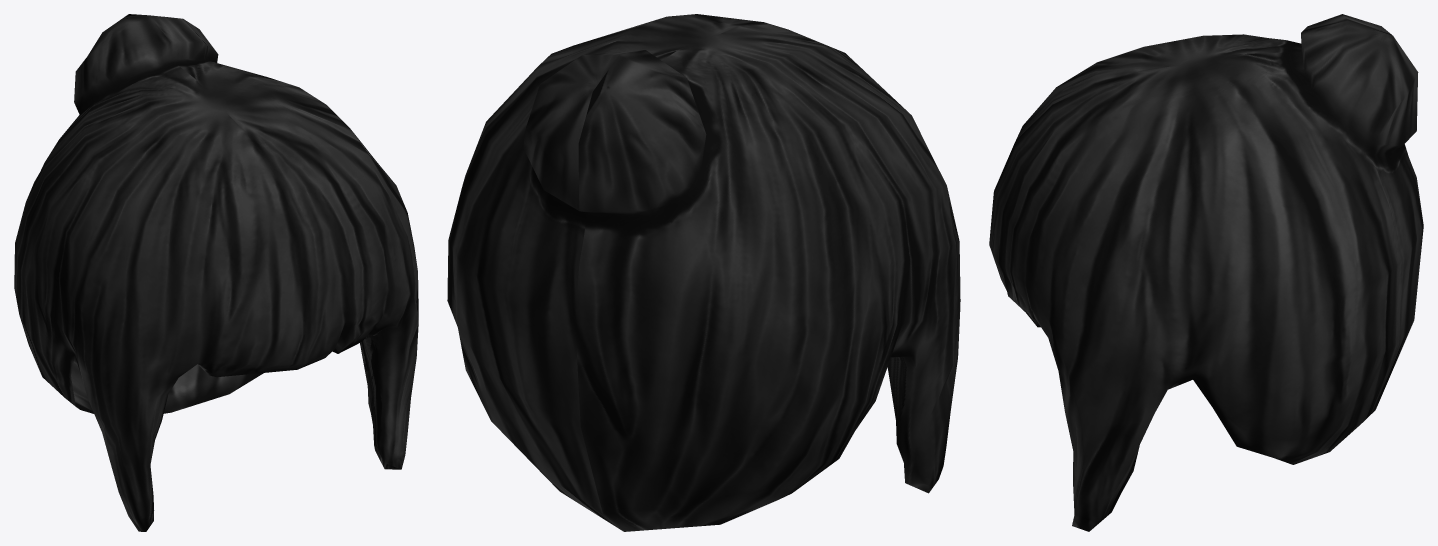
File: AF_M_hair_G_01.fbx
The picture shows the model from 3 angles, left to right: view 1: azimuth 30°, elevation 25°; view 2: azimuth 150°, elevation 25°; view 3: azimuth 270°, elevation 25°; orthographic projection. The views are drawn at different scales.
Visible parts, largest first — view 1: AF_M_hair_G_01; view 2: AF_M_hair_G_01; view 3: AF_M_hair_G_01.
Part boxes in pixels (x1=…): AF_M_hair_G_01: x1=14, y1=14, x2=418, y2=531; AF_M_hair_G_01: x1=447, y1=14, x2=960, y2=531; AF_M_hair_G_01: x1=989, y1=14, x2=1423, y2=531.
Size of the model in its own units: 696 by 823 by 733.
